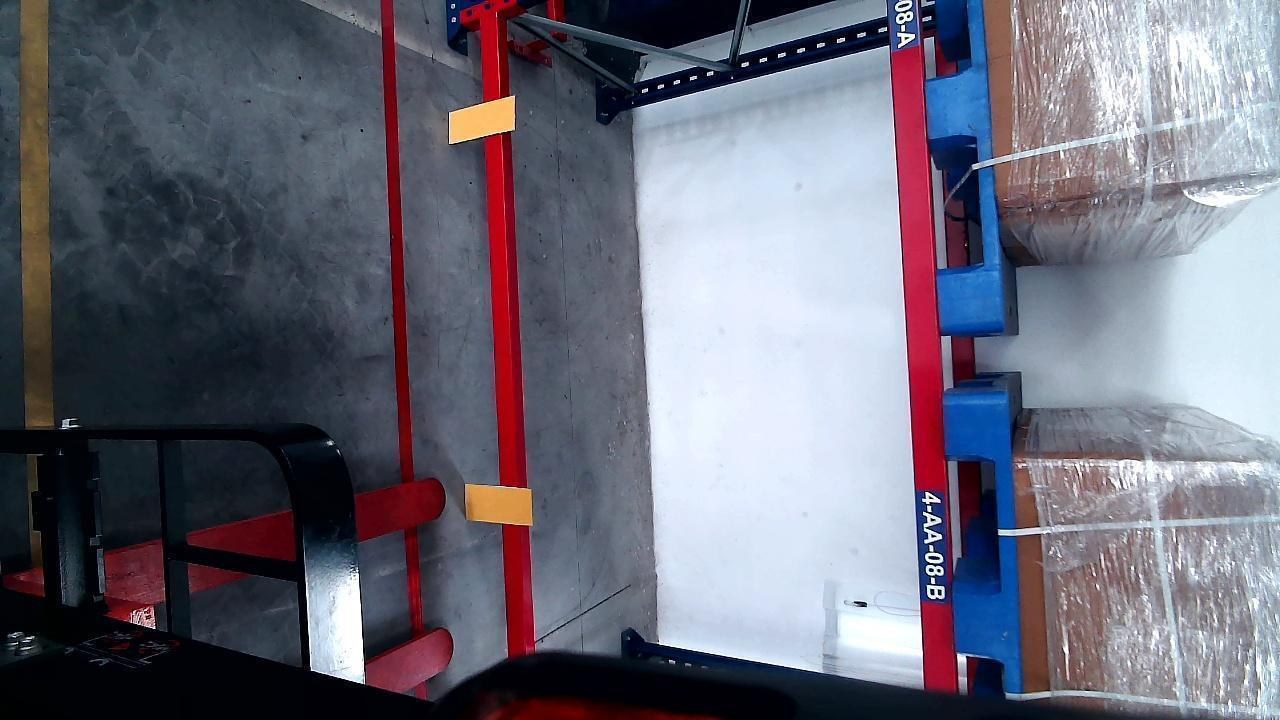red_line: (381, 1, 417, 473)
yellow_line: (20, 0, 55, 432)
